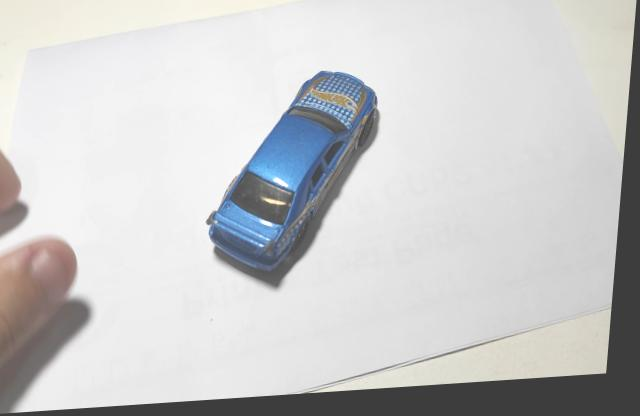04_MERZEDES: (210, 76, 384, 289)
